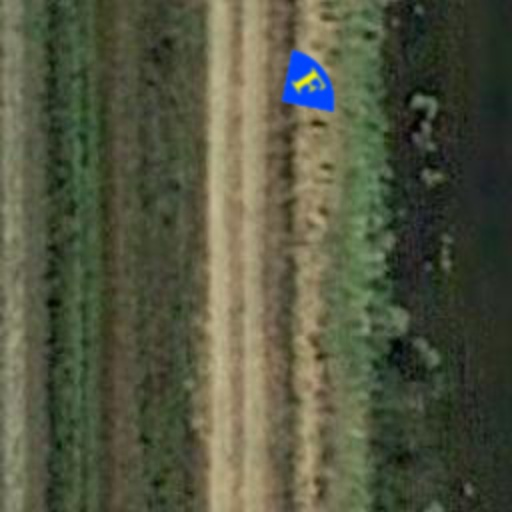quarter_circle: (258, 34, 358, 134)
